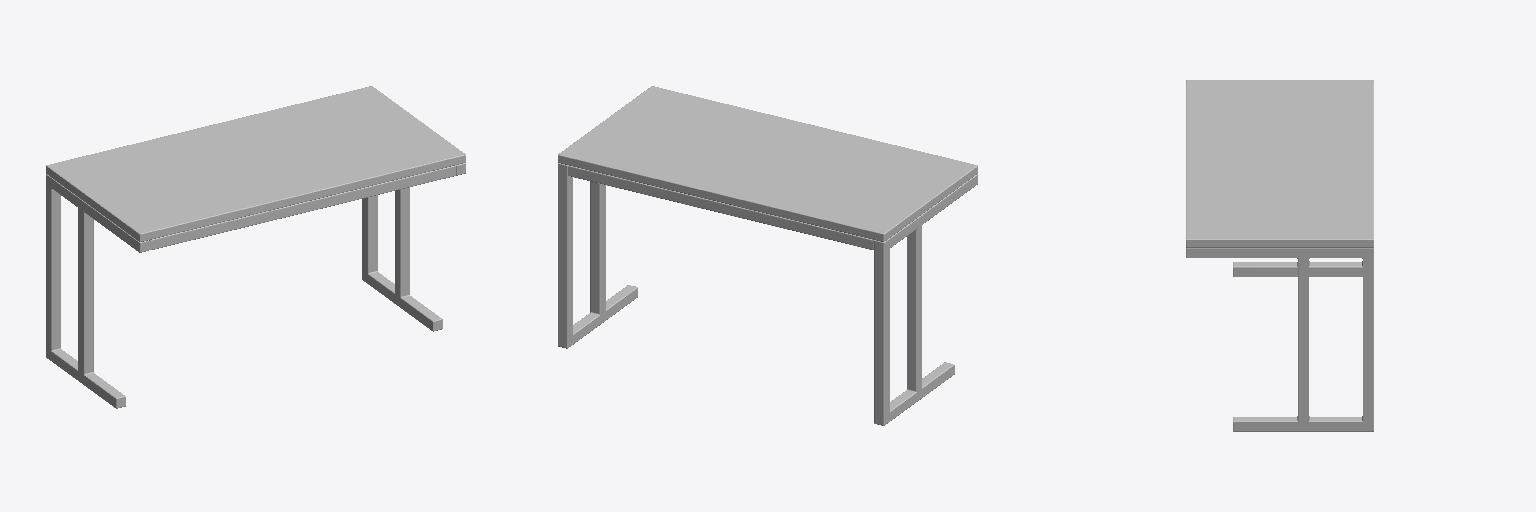
The model's file is desk.obj.
3 views of the same model, side by side, from view 1: azimuth 30°, elevation 25°; view 2: azimuth 150°, elevation 25°; view 3: azimuth 270°, elevation 25° (orthographic).
Parts seen in each view (by area): view 1: Plane, Floor_Laptop_Desk_80x40x45; view 2: Plane, Floor_Laptop_Desk_80x40x45; view 3: Plane, Floor_Laptop_Desk_80x40x45.
Part boxes in pixels (x1,y1,x2,y2): Plane: (46,86,465,241); Floor_Laptop_Desk_80x40x45: (46,163,465,408); Plane: (558,86,977,241); Floor_Laptop_Desk_80x40x45: (558,163,977,425); Plane: (1186,80,1373,247); Floor_Laptop_Desk_80x40x45: (1186,248,1373,431).
Bounding box in the file's own units: 0.8 × 0.45 × 0.4.